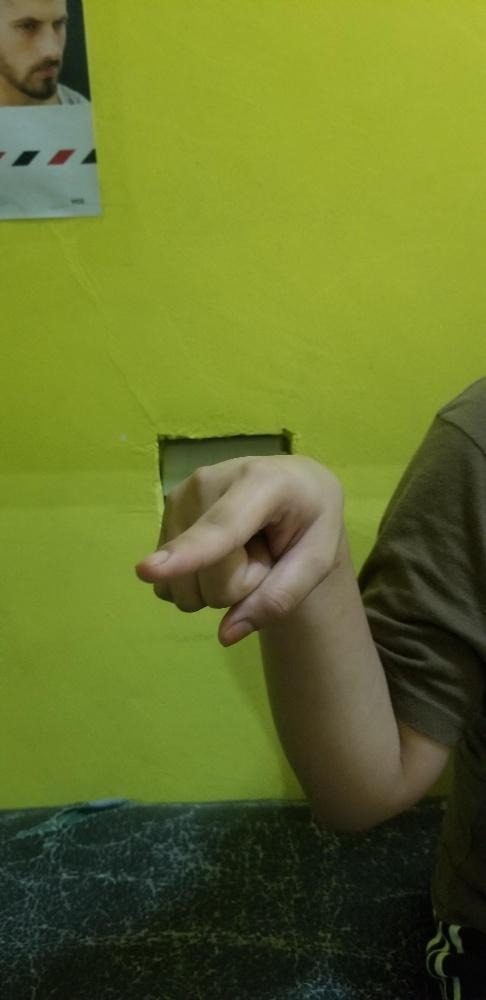z: (132, 451, 342, 646)
